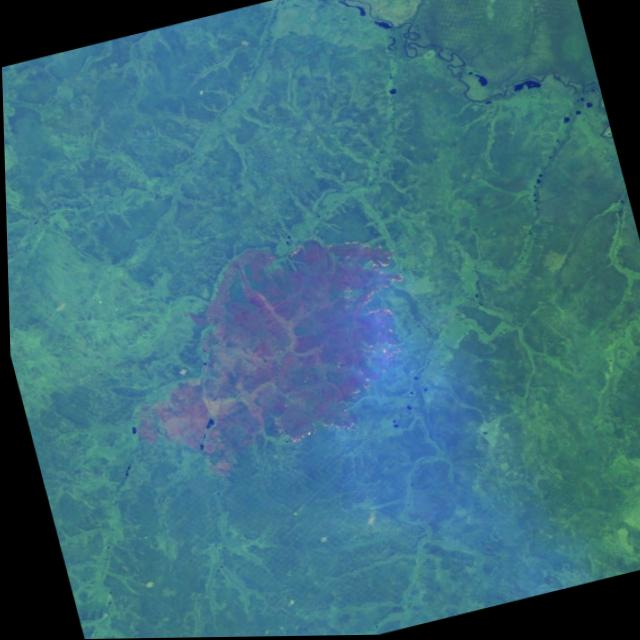fire: (231, 213, 447, 449)
